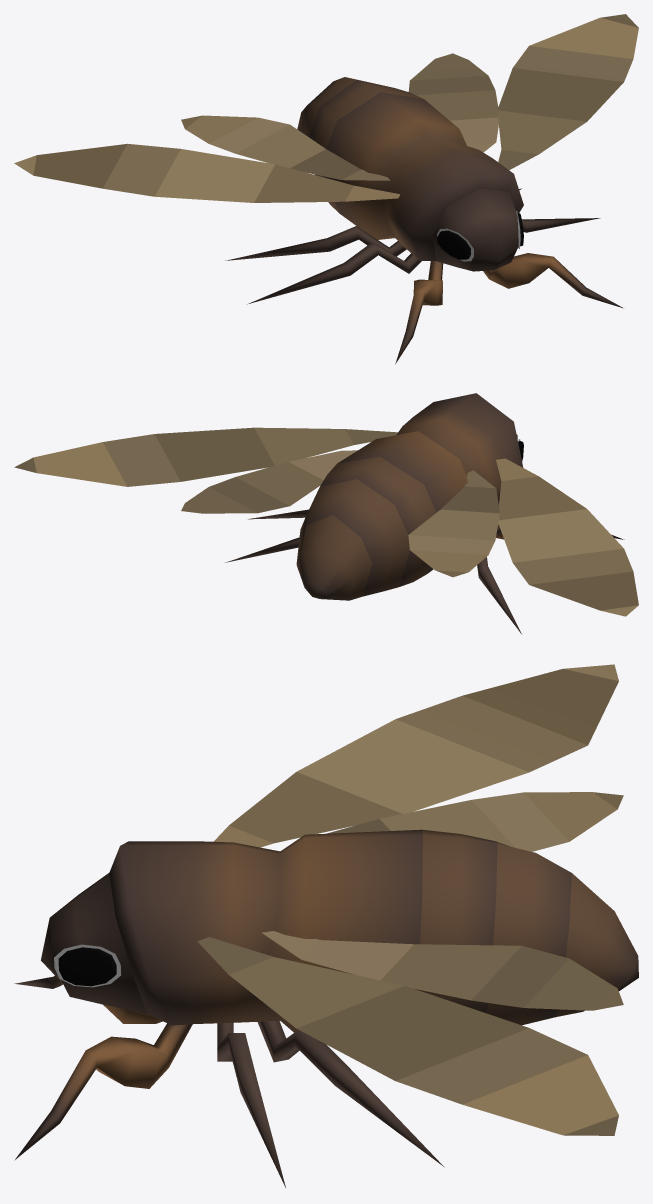
3 views of the same model, one above another, from view 1: azimuth 30°, elevation 25°; view 2: azimuth 150°, elevation 25°; view 3: azimuth 270°, elevation 25° (orthographic). The views are drawn at different scales.
Visible parts, largest first — view 1: base.136; view 2: base.136; view 3: base.136.
Boxes of the visible parts, bbox=[...] form: base.136: bbox=[14, 14, 638, 364]; base.136: bbox=[14, 393, 638, 634]; base.136: bbox=[14, 664, 638, 1187].
Bounding box in the file's own units: 0.5 × 0.117 × 0.2801.
